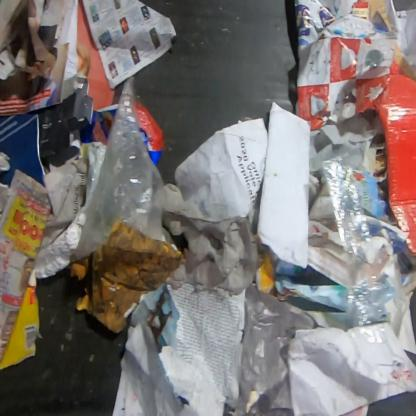cardboard: (70, 220, 186, 334), (369, 0, 416, 260), (0, 270, 40, 371)
soft_plastic: (71, 76, 168, 260), (321, 151, 387, 343), (236, 284, 318, 415)
